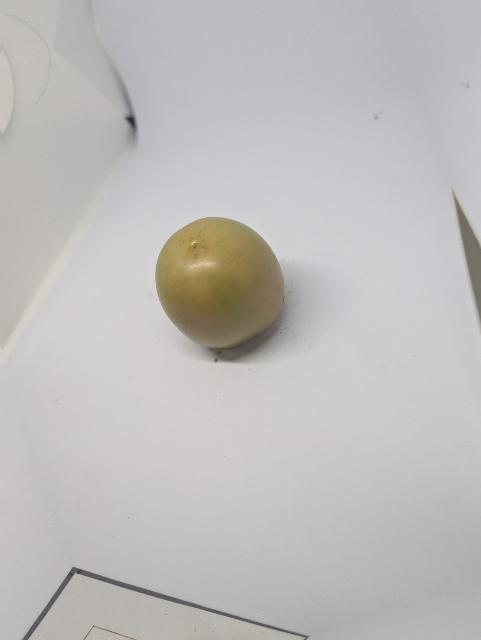breaker: (156, 216, 289, 355)
